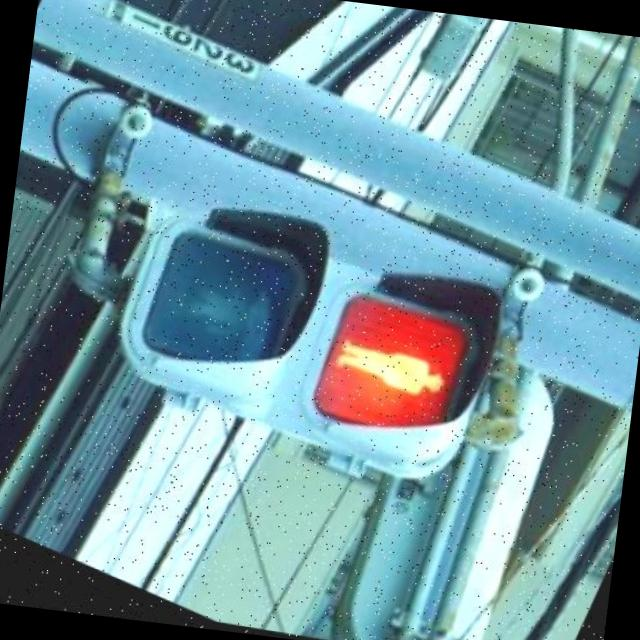red_light: (324, 288, 480, 447)
